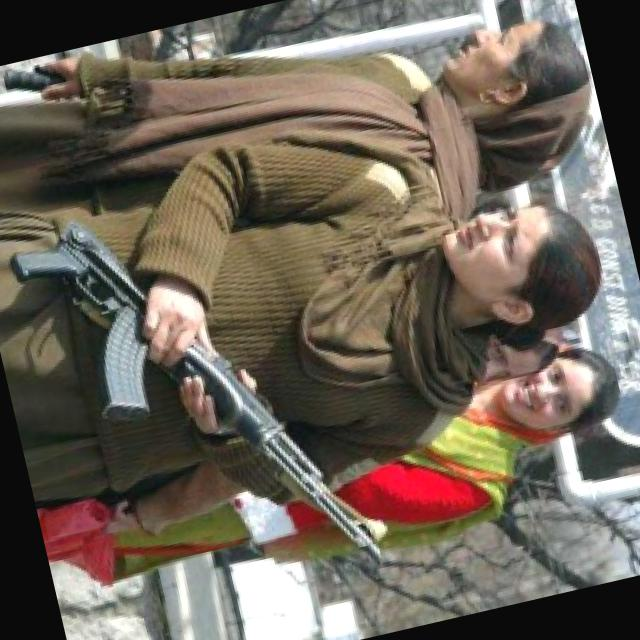long weapon: (21, 159, 400, 634)
